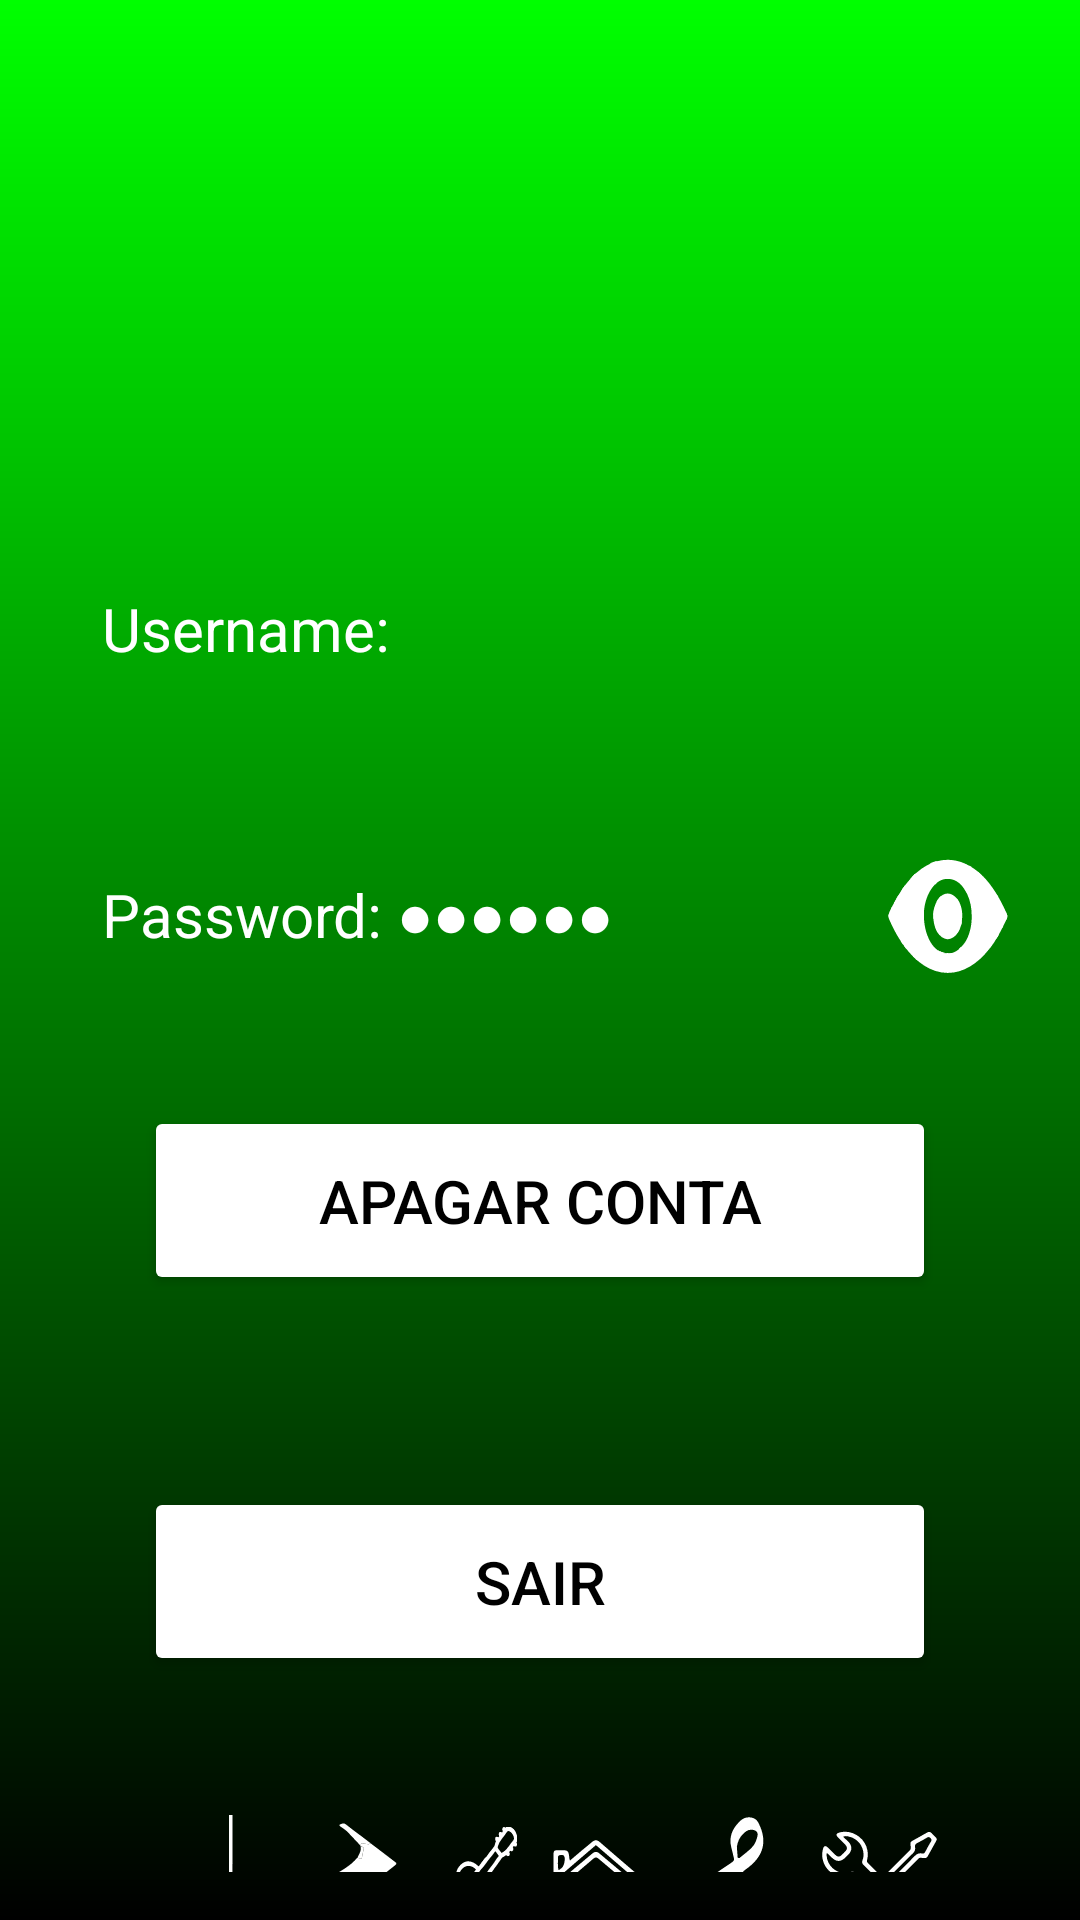

Icon click points for this 1080 x 1920 phone screenshot, format (x,y):
showpassword: (948,916)
